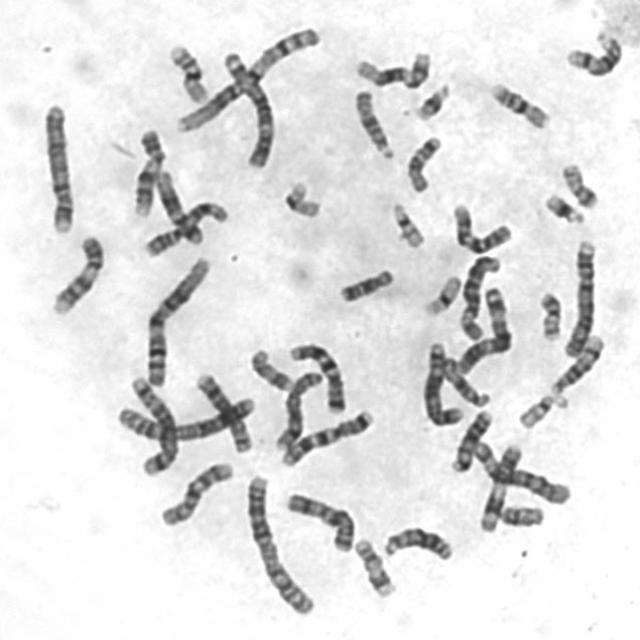A1: (170, 20, 322, 134), (139, 251, 214, 388)
A2: (240, 468, 317, 617), (110, 390, 257, 444)
A3: (217, 46, 277, 171), (451, 283, 514, 375)
B4: (37, 97, 76, 235), (558, 234, 599, 359)
B5: (123, 370, 181, 478), (416, 337, 467, 427)
C10: (154, 456, 235, 528), (445, 198, 514, 255)
C11: (137, 196, 232, 258), (474, 439, 525, 534)
C12: (148, 163, 206, 246), (350, 45, 433, 91)
C6: (468, 436, 574, 506), (454, 251, 503, 342)
C7: (274, 404, 376, 468), (283, 337, 347, 414)
C8: (189, 366, 254, 455), (270, 365, 325, 454)
C9: (45, 230, 107, 317), (127, 123, 167, 219)
D13: (445, 404, 495, 474), (378, 520, 455, 562)
D14: (545, 330, 607, 397), (559, 25, 625, 78)
D15: (349, 85, 397, 162), (436, 351, 492, 408)
E16: (484, 76, 552, 132), (162, 38, 211, 105)
E17: (349, 534, 398, 600), (245, 343, 296, 393)
E18: (401, 130, 444, 194), (334, 263, 396, 304)
F19: (417, 270, 464, 318), (278, 176, 324, 220)
F20: (555, 156, 601, 210), (534, 286, 564, 343)
G21: (409, 78, 454, 122), (538, 188, 588, 226)
G22: (513, 388, 567, 431), (385, 197, 427, 250)
X: (281, 486, 357, 554)
Y: (495, 499, 546, 528)
